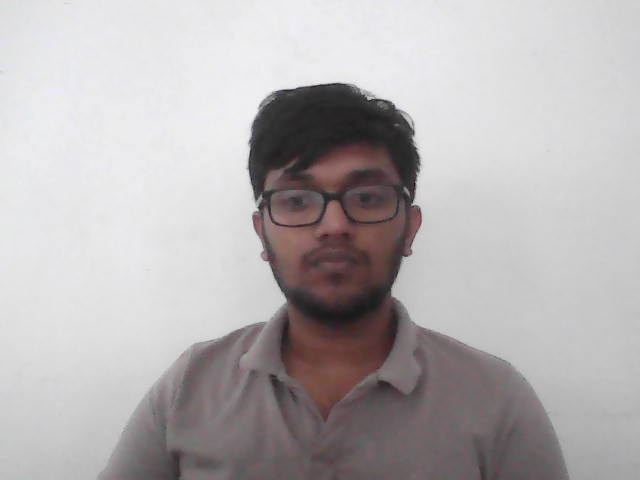upper level: (247, 81, 425, 325)
